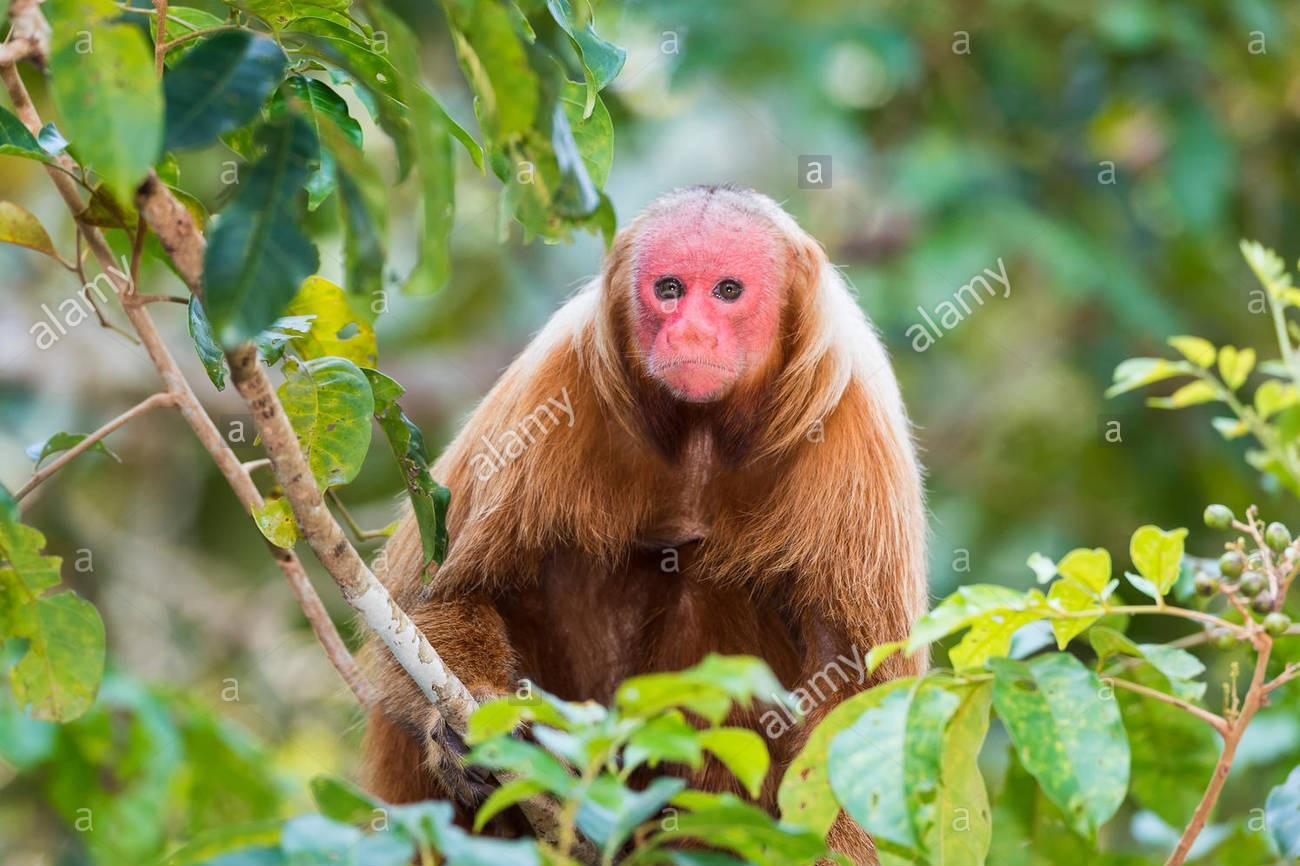monkey: (420, 186, 914, 711)
